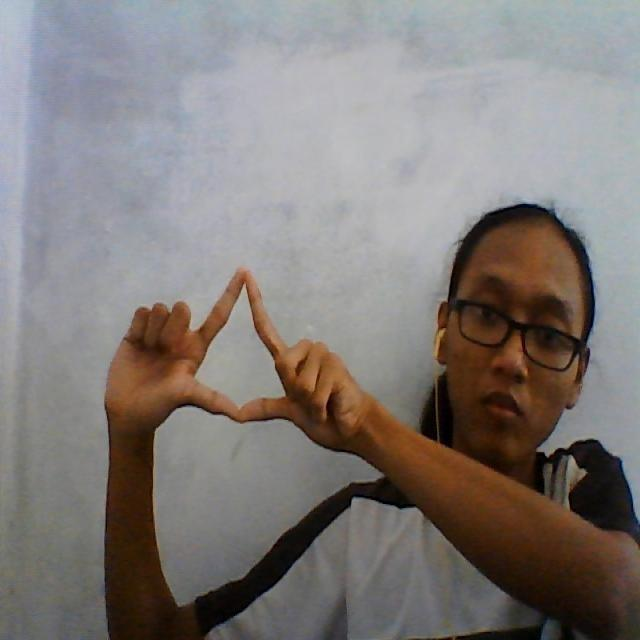A: (85, 240, 382, 487)
